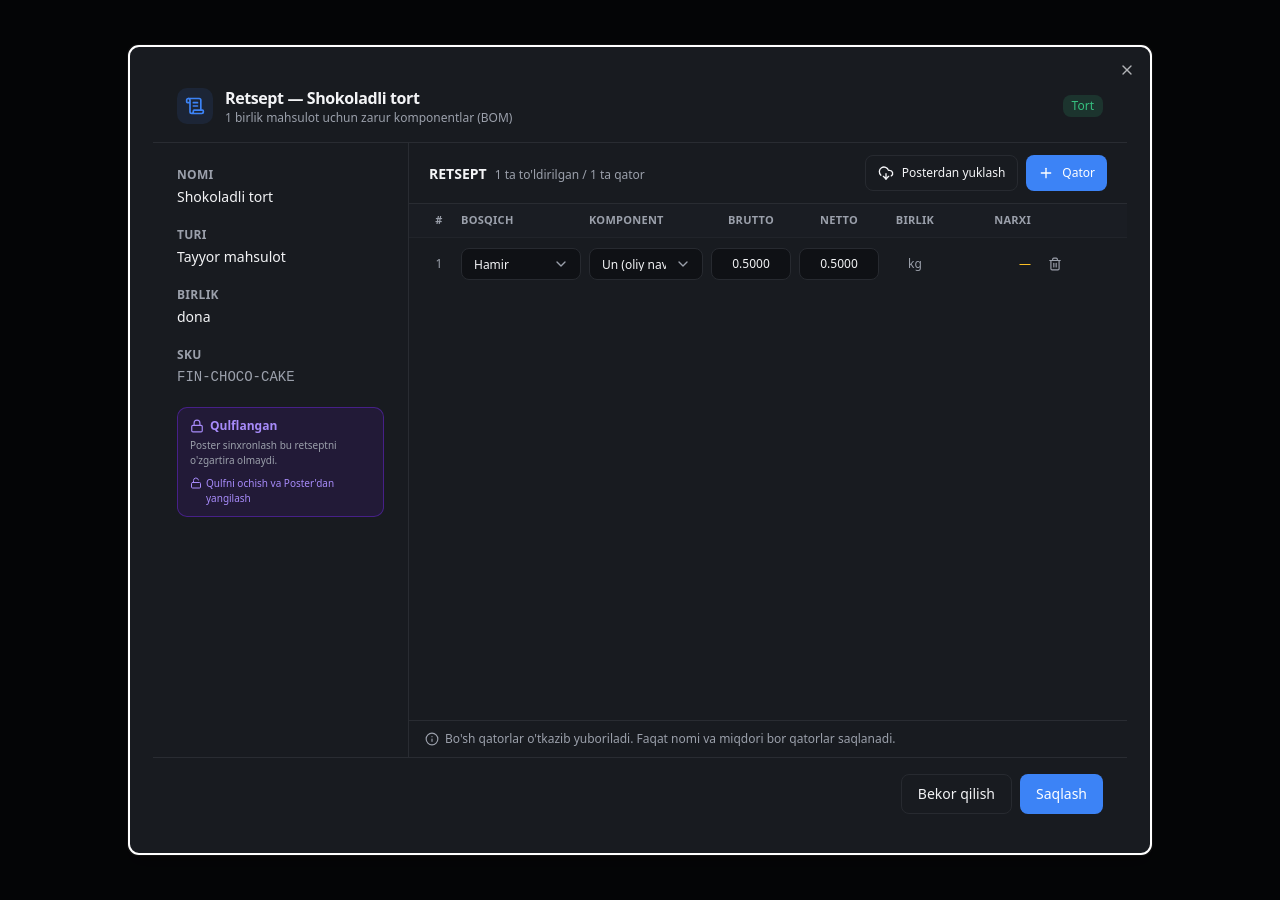
Test: RecipeDialog — Poster resync › stage pre-check before apply › no warning when the split is kept
This screenshot has width=1280, height=900.
Expected: the 2nd dropdown showing "Un (oliy nav)" is shown, [589,248,703,280]
Click the button "Qulfni ochish va Poster'dan yangilash".
click(280, 491)  # box [190,476,371,506]
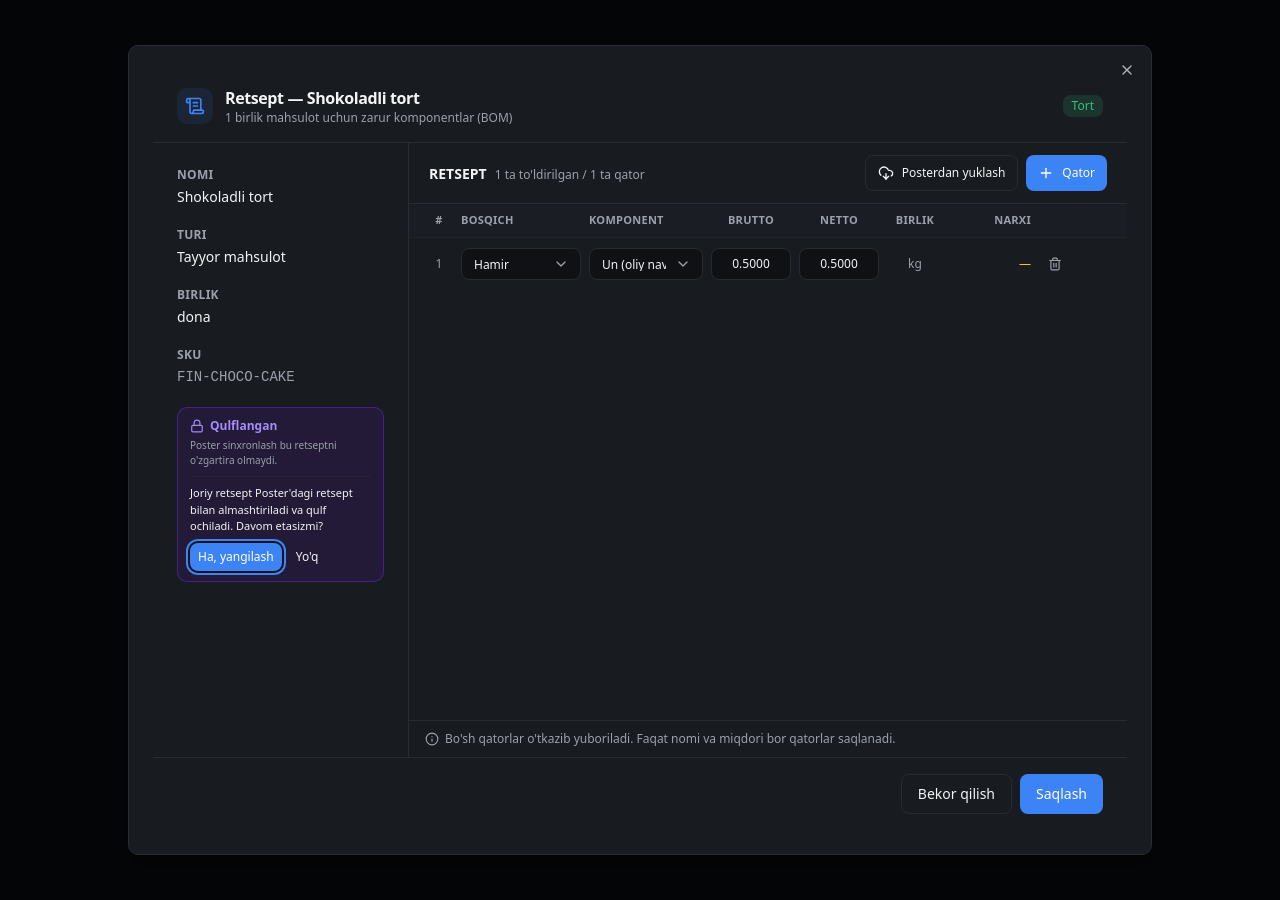
Expected: the button "Ha, yangilash" is enabled, [190,542,282,570]
